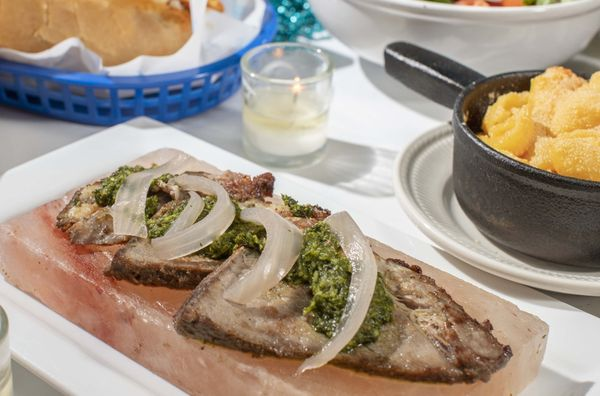curry: (281, 219, 354, 336)
pizza: (240, 41, 334, 168), (0, 302, 13, 393)
sushi: (0, 1, 275, 128), (452, 61, 600, 265), (308, 1, 600, 72)
